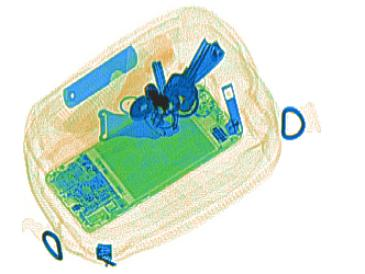knife: (61, 43, 139, 109)
